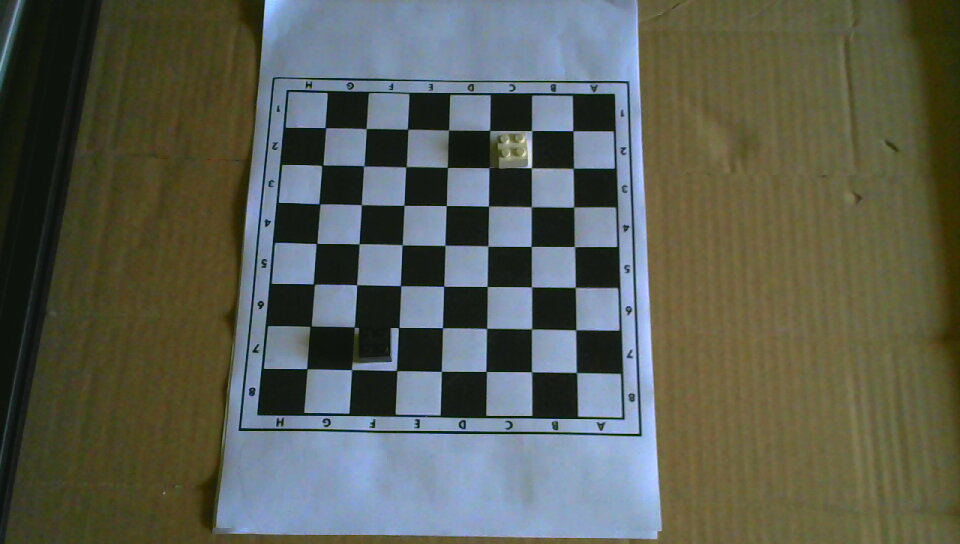bp: (357, 324, 392, 364)
wp: (496, 132, 528, 169)
